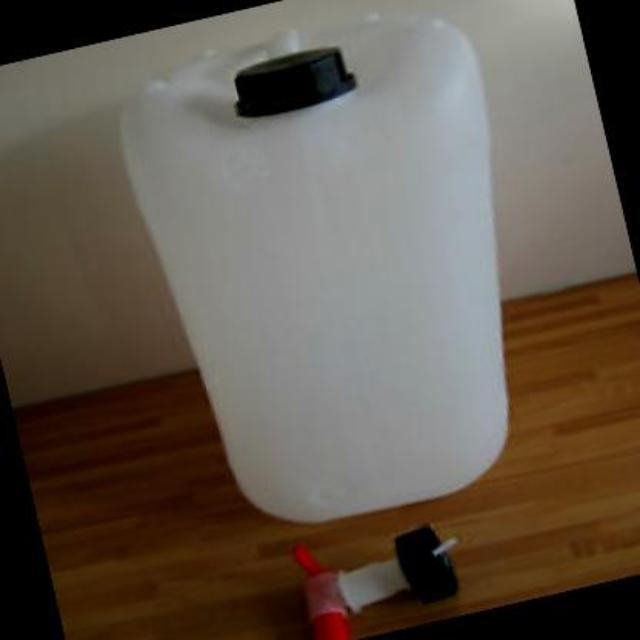chemical_plastic_gallon: (66, 0, 592, 620)
